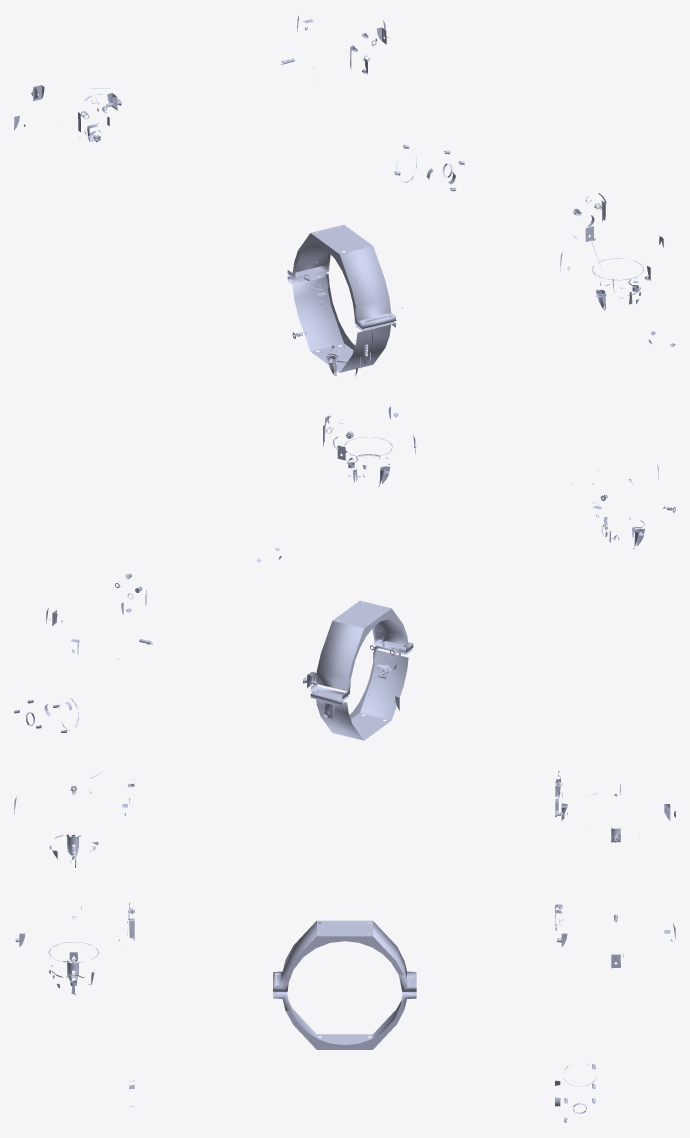
File: bluerov2_heavy_202_209_238_001.obj
The picture shows the model from 3 angles, top to bottom: view 1: azimuth 30°, elevation 25°; view 2: azimuth 150°, elevation 25°; view 3: azimuth 270°, elevation 25°; orthographic projection. The views are drawn at different scales.
Visible parts, largest first — view 1: BROV2-HEAVY-45.005_BROV2-HEAVY-45.006; view 2: BROV2-HEAVY-45.005_BROV2-HEAVY-45.006; view 3: BROV2-HEAVY-45.005_BROV2-HEAVY-45.006.
Boxes of the visible parts, left/top/right/bottom form: BROV2-HEAVY-45.005_BROV2-HEAVY-45.006: left=14, top=15, right=675, bottom=376; BROV2-HEAVY-45.005_BROV2-HEAVY-45.006: left=14, top=406, right=675, bottom=740; BROV2-HEAVY-45.005_BROV2-HEAVY-45.006: left=14, top=771, right=675, bottom=1123.
Bounding box in the file's own units: 14.97 × 7.19 × 20.96.
